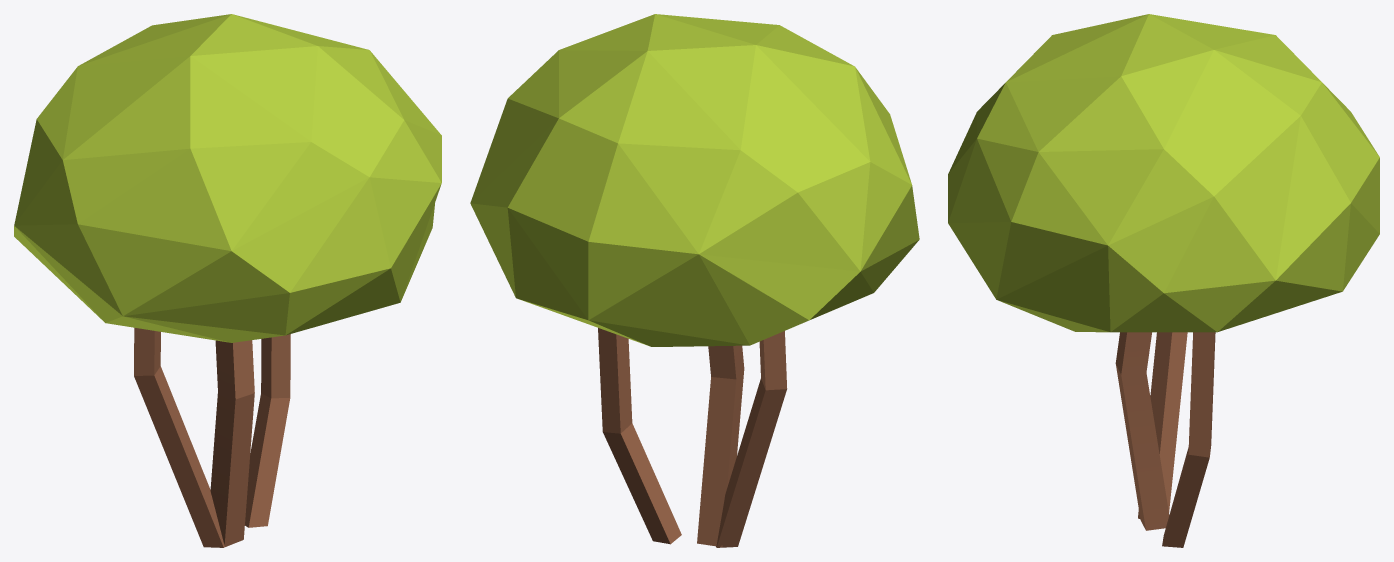
Rendered from bush_1.fbx.
3 renders of one model, left to right at view 1: azimuth 30°, elevation 25°; view 2: azimuth 150°, elevation 25°; view 3: azimuth 270°, elevation 25°, orthographic. The views are drawn at different scales.
Parts seen in each view (by area): view 1: bush_1; view 2: bush_1; view 3: bush_1.
Part boxes in pixels (x1,y1,x2,y2): bush_1: (14,14,441,547); bush_1: (470,14,919,547); bush_1: (948,14,1379,547).
Size of the model in its own units: 122 by 151 by 120.
